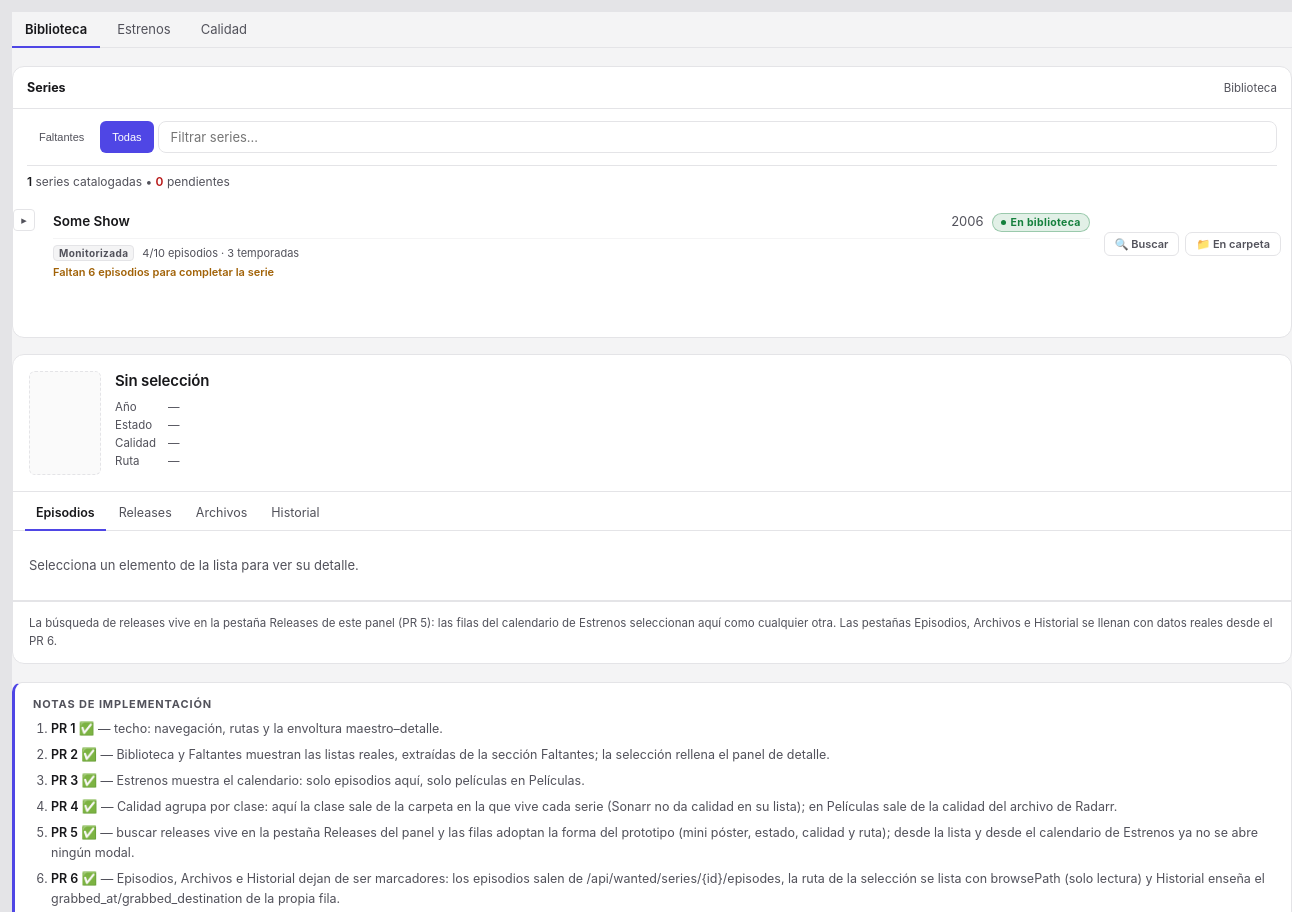
Scenario: Series · árbol serie→temporada→episodio (bloque 🟡) › collapsing removes the children and flips the disclosure back
Expected: the text "Some Show" is shown, [53, 212, 130, 228]
Click the button named "episodios de Some Show" at point(24, 220), box [13, 209, 35, 231]
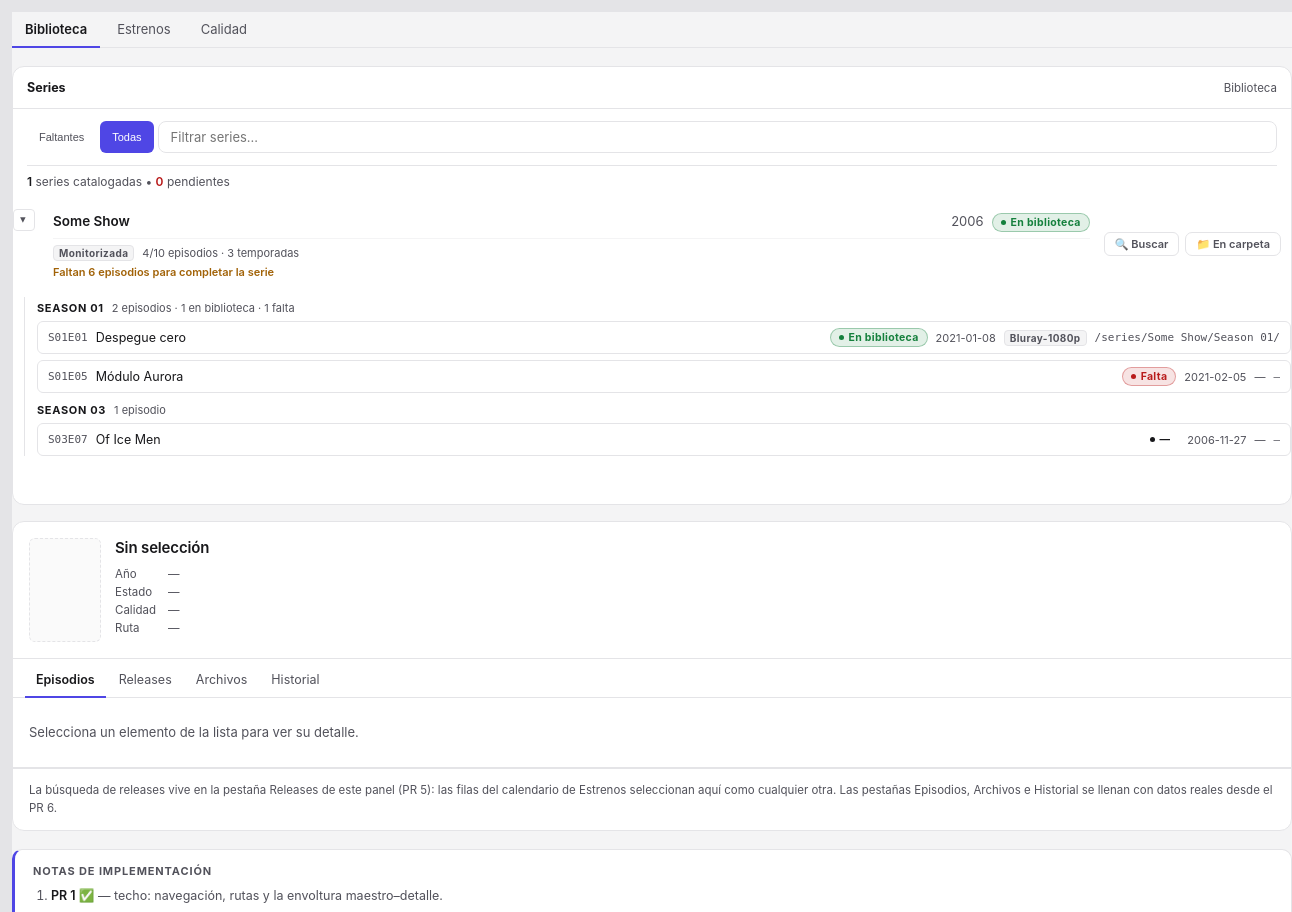
Result: the text "Despegue cero" is shown at [96, 330, 186, 345]
Click the button named "contraer episodios de Some Show" at point(24, 220), box [13, 209, 35, 231]
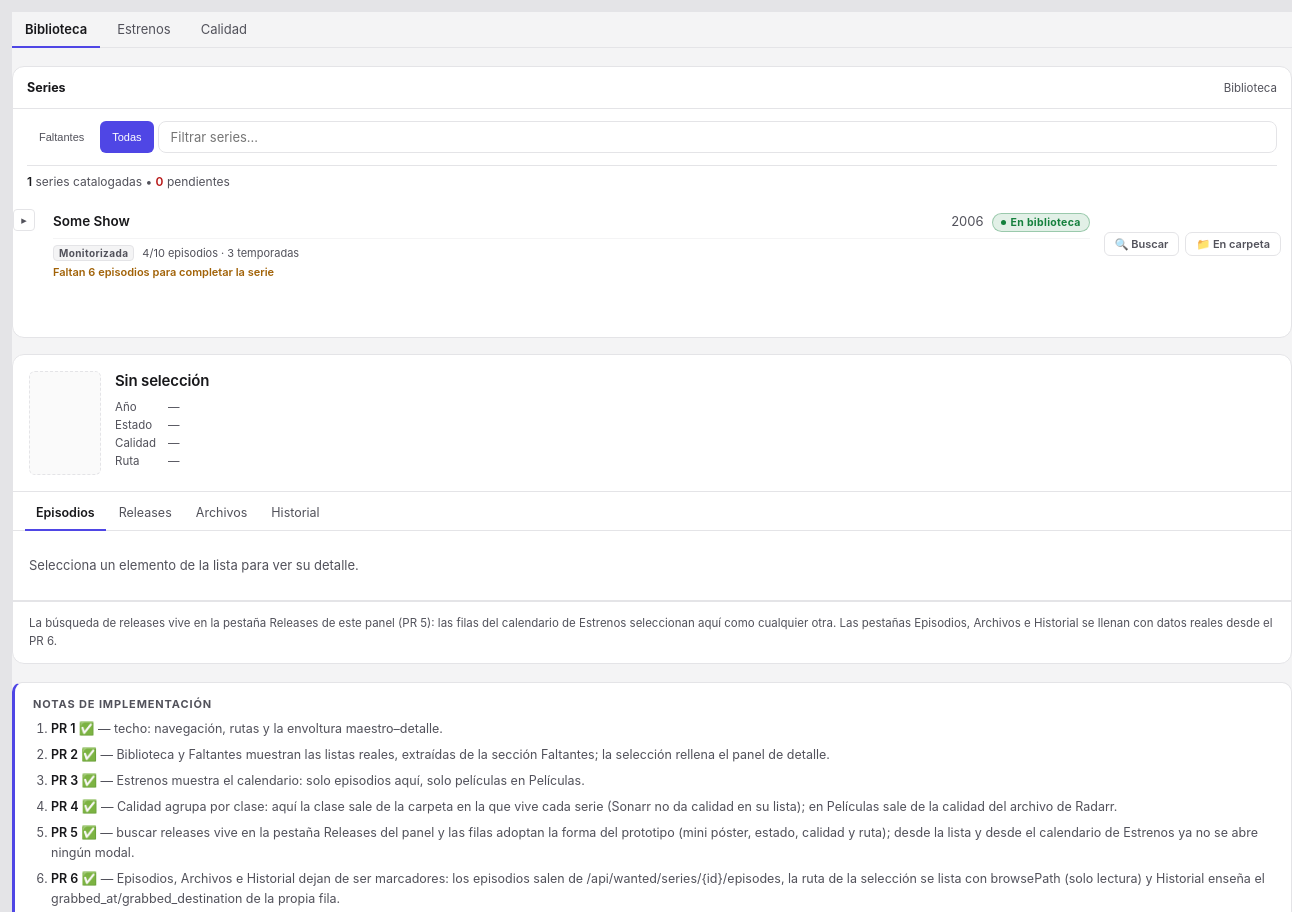
Result: the text "Despegue cero" is gone
Result: the button named "episodios de Some Show" is collapsed at [13, 209, 35, 231]
